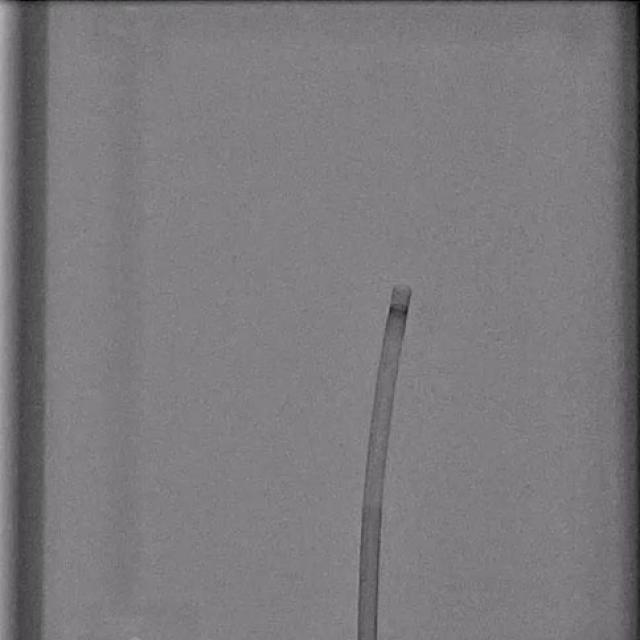bend: (362, 494, 384, 508)
entry: (357, 634, 377, 640)
marker: (388, 303, 409, 318)
tip: (393, 286, 412, 294)
